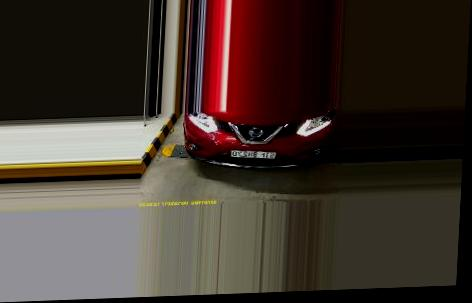License_Plate: (227, 146, 277, 161)
